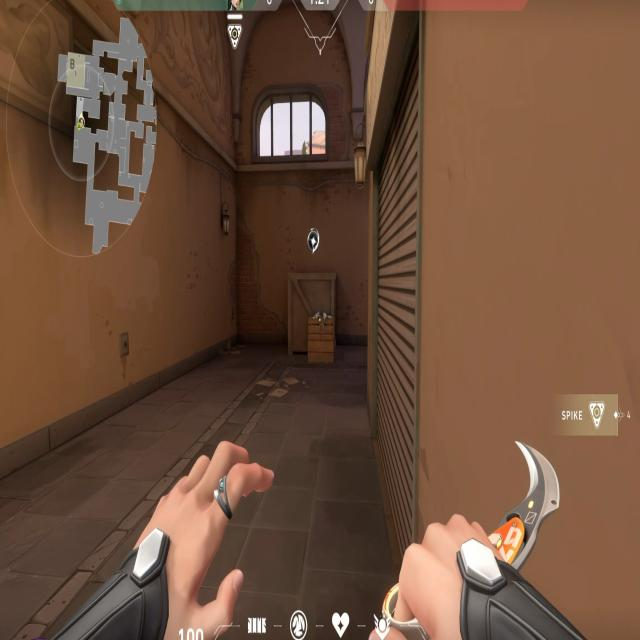B_Main_Wallbang: (252, 224, 331, 359)
Throwables: (251, 84, 332, 165)
